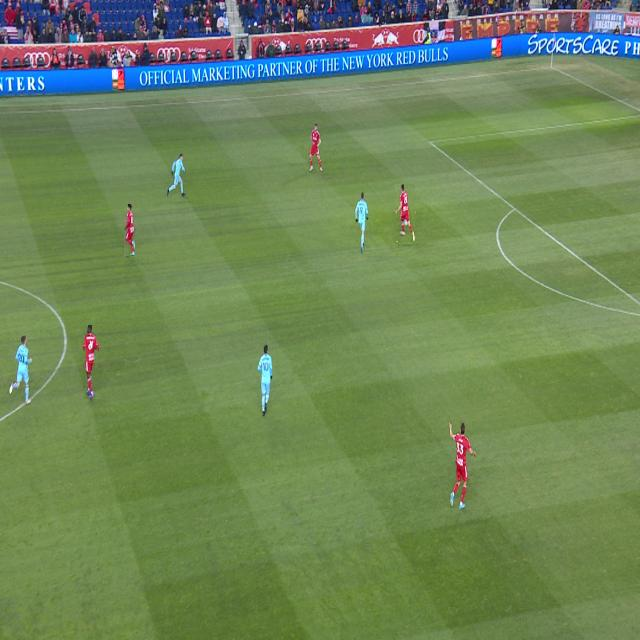football: (403, 220, 407, 226)
player: (449, 422, 476, 509), (9, 336, 32, 405), (396, 185, 415, 241), (84, 325, 98, 399), (258, 345, 272, 416), (167, 154, 186, 197), (355, 192, 368, 254), (309, 124, 323, 171), (125, 205, 135, 256)
